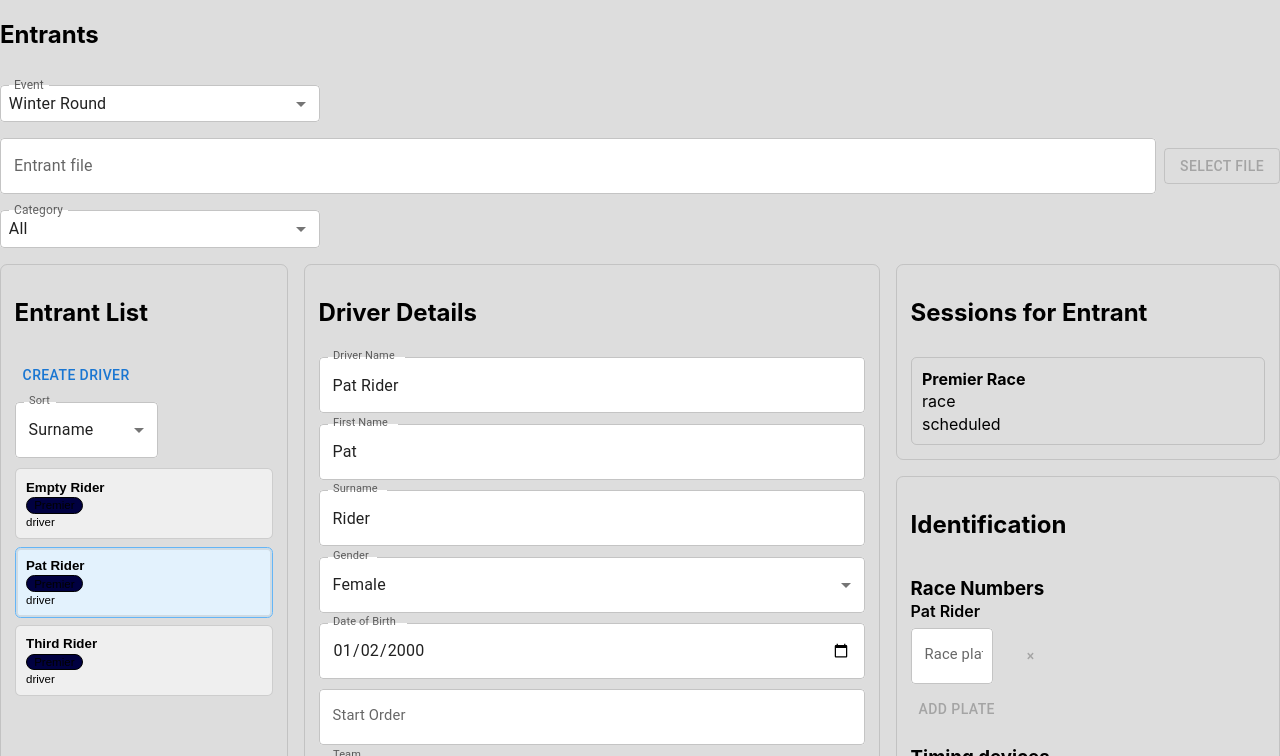
Test: EntrantsPage integration › uses a stable shift-selection anchor and lets control-click toggle individual entrant cards
Click the button "Empty Rider Premier driver" at (144,504), box [15,468,273,539]
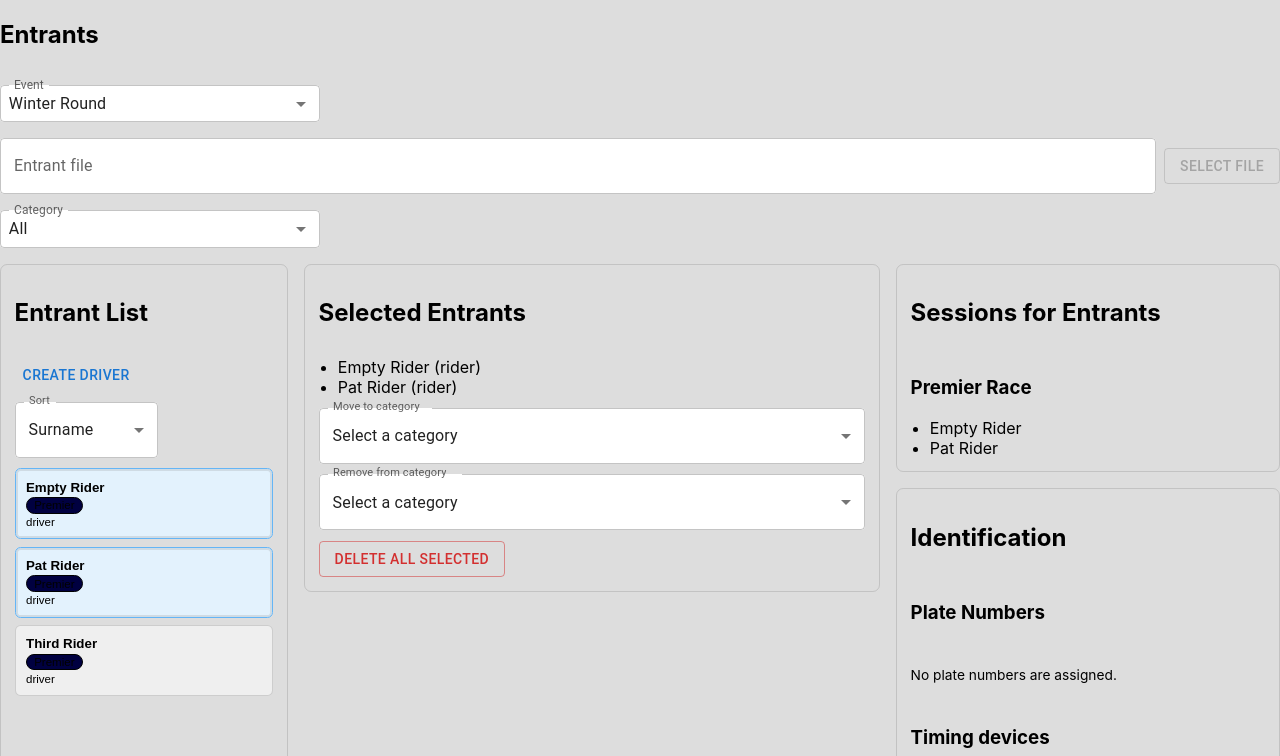
Expected: the button "Empty Rider Premier driver" is selected, [15,468,273,539]
Click the button "Third Rider Premier driver" at (144,660), box [15,625,273,696]
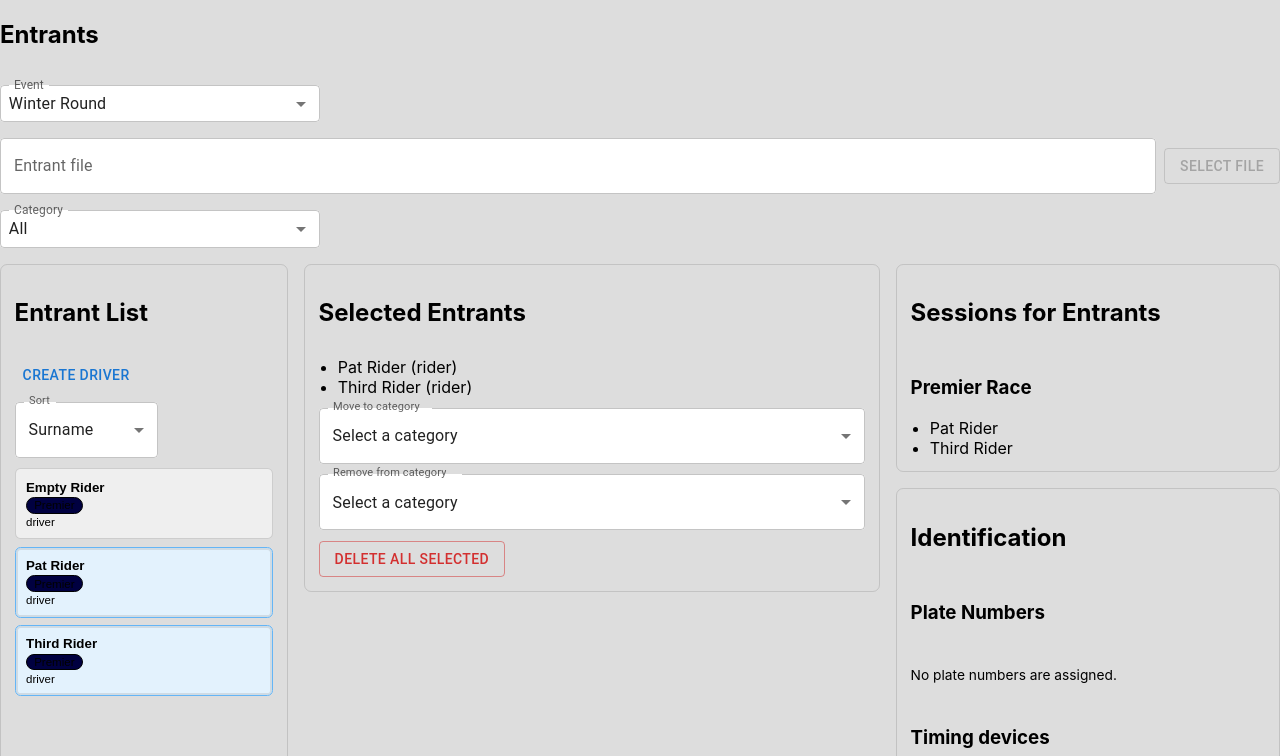
Expected: the button "Empty Rider Premier driver" is not selected
Expected: the button "Third Rider Premier driver" is selected, [15,625,273,696]
Click the button "Empty Rider Premier driver" at (144,504), box [15,468,273,539]
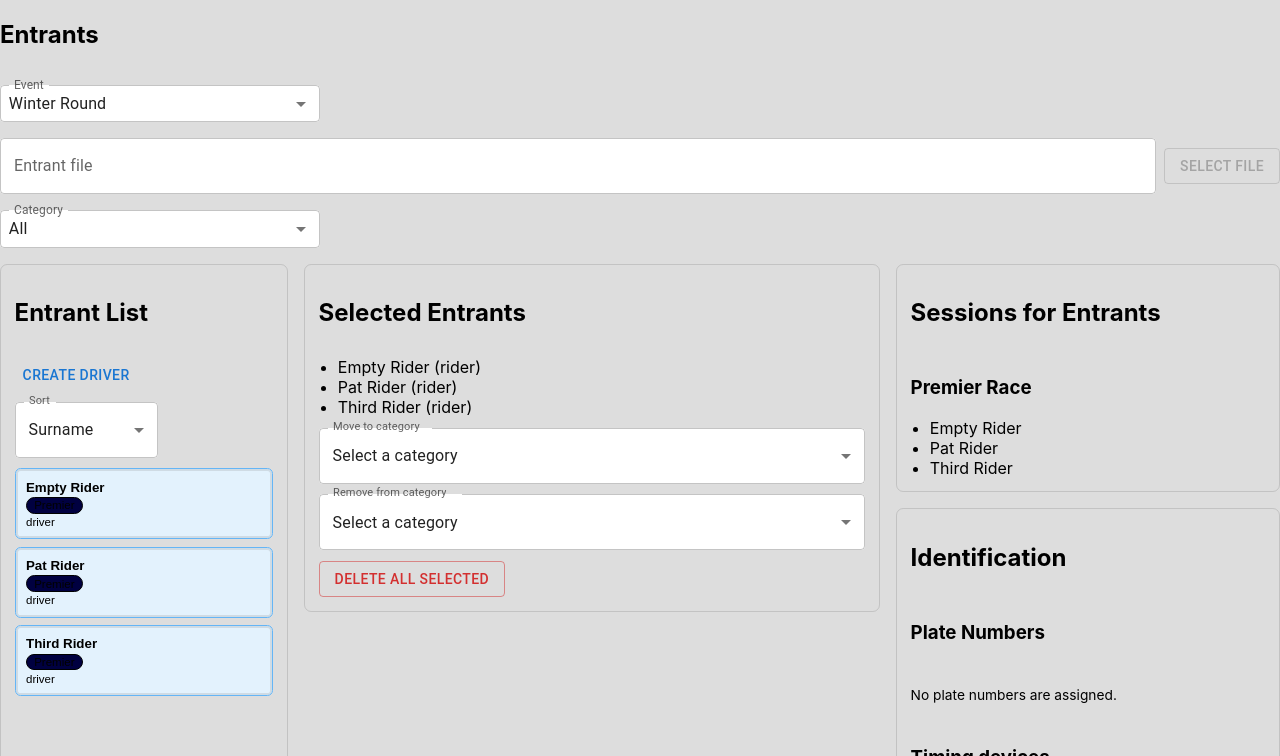
Expected: the button "Empty Rider Premier driver" is selected
Click the button "Empty Rider Premier driver" at (144,504), box [15,468,273,539]
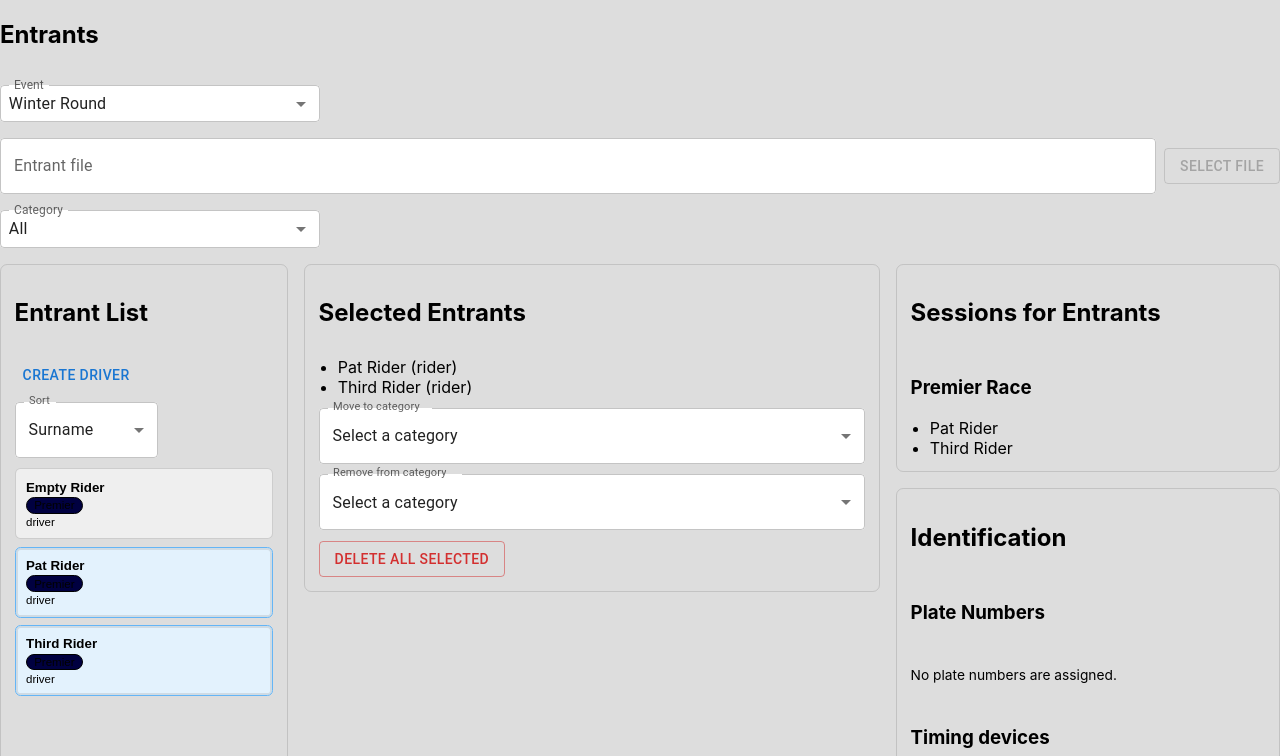
Expected: the button "Empty Rider Premier driver" is not selected, [15,468,273,539]
Click the button "Third Rider Premier driver" at (144,660), box [15,625,273,696]
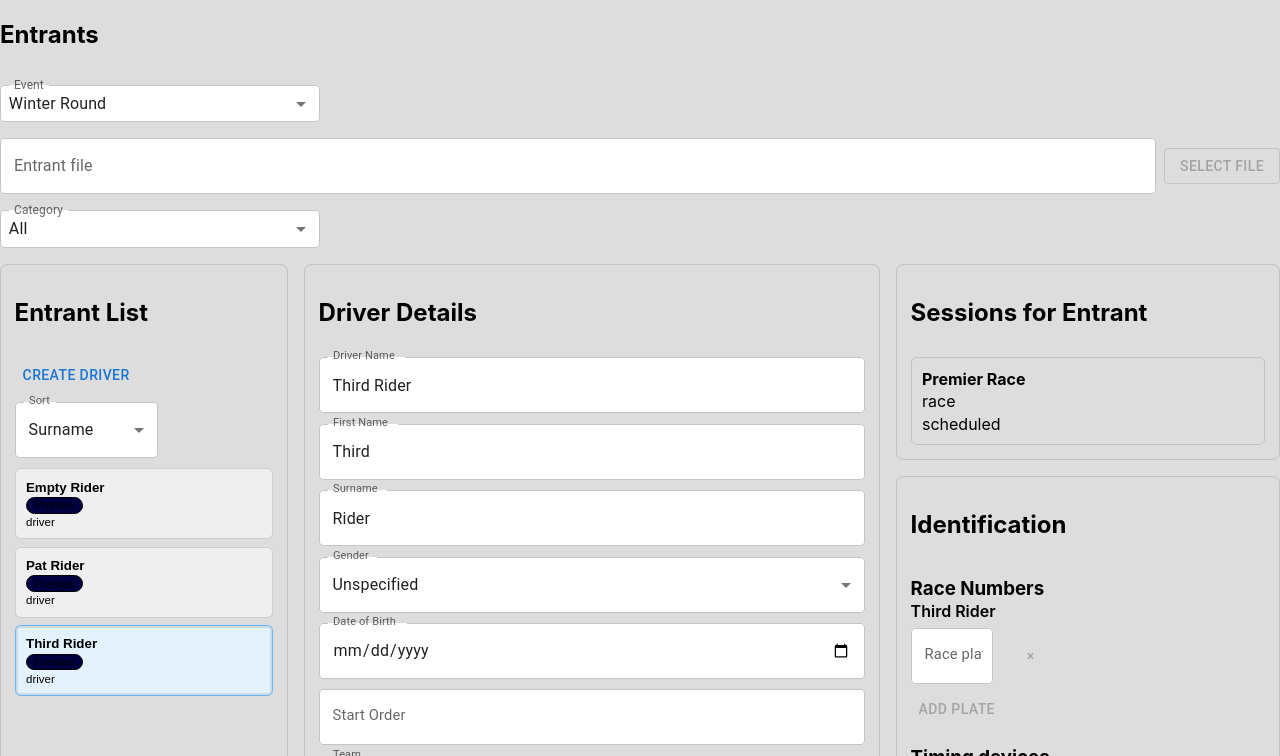
Expected: the text "Selected Entrants" is gone
Expected: the field named "Entrant Name" holds "Third Rider", [319,357,865,413]
